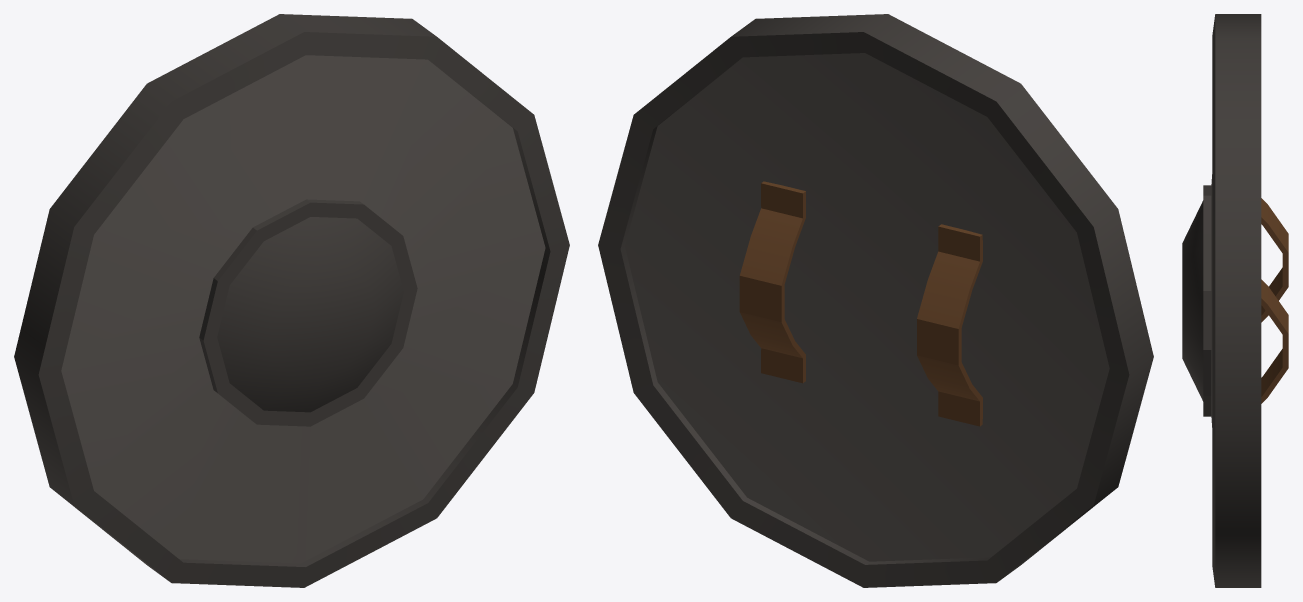
Rendered from Buckler Shield.glb.
The picture shows the model from 3 angles, left to right: view 1: azimuth 30°, elevation 25°; view 2: azimuth 150°, elevation 25°; view 3: azimuth 270°, elevation 25°; orthographic projection. The views are drawn at different scales.
Visible parts, largest first — view 1: Buckler Shield; view 2: Buckler Shield; view 3: Buckler Shield.
Boxes of the visible parts, x1,y1,x2,y2 form: Buckler Shield: [14, 14, 569, 587]; Buckler Shield: [598, 14, 1153, 587]; Buckler Shield: [1182, 14, 1288, 587].
Size of the model in its own units: 0.36 by 0.36 by 0.0664.
Materials: 1 (1 with a texture image).
